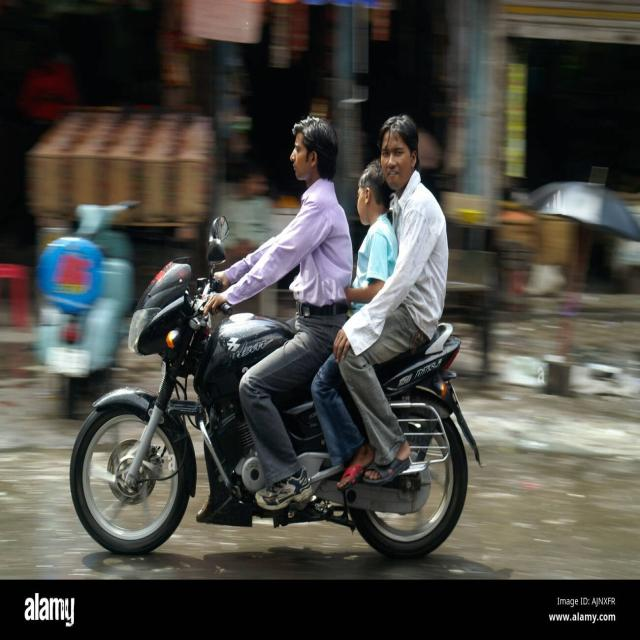motorcycle: (70, 114, 479, 556)
